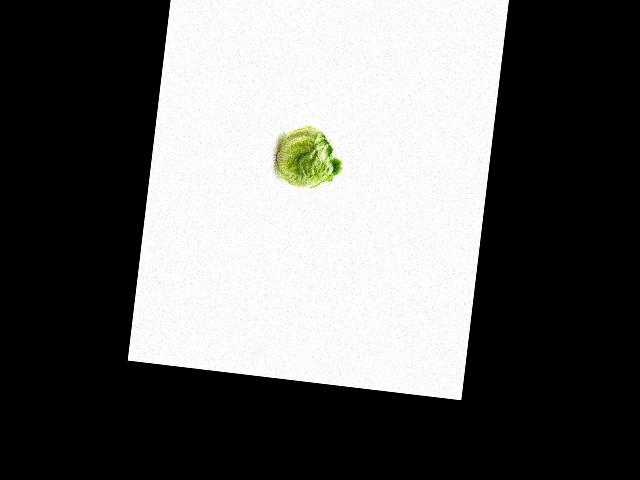lettuce: (270, 117, 347, 194)
